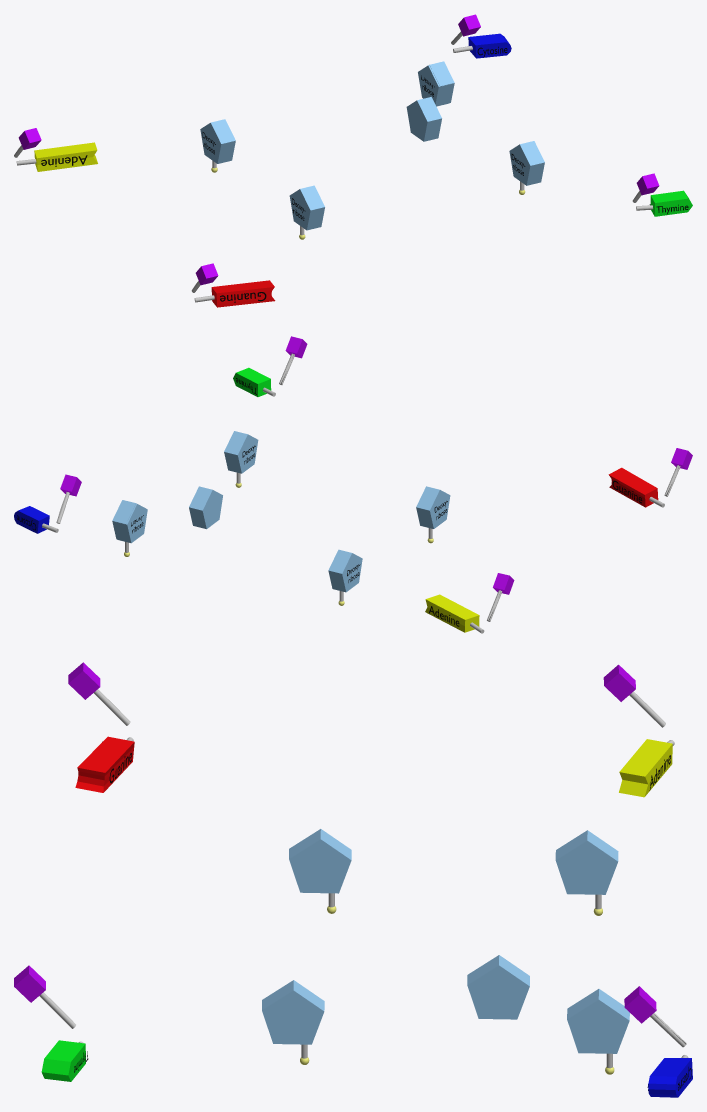
File: thymine.glb
3 renders of one model, top to bottom at view 1: azimuth 30°, elevation 25°; view 2: azimuth 150°, elevation 25°; view 3: azimuth 270°, elevation 25°, orthographic. The views are drawn at different scales.
Parts seen in each view (by area): view 1: Deoxyribose.006 (×4), Connector_Ribose_Base.001, Connector_Ribose_Base.002, Connector_Ribose_Base.004, Connector_Ribose_Base.003, Deoxyribose.004; view 2: Deoxyribose.006 (×4), Connector_Ribose_Base.001, Connector_Ribose_Base.002, Deoxyribose.004, Connector_Ribose_Base.003, Connector_Ribose_Base.004, Phosphate.004, Phosphate.001, Phosphate.002, Phosphate.003; view 3: Deoxyribose.006 (×5), Connector_Ribose_Base.002, Connector_Ribose_Base.001, Connector_Ribose_Base.004, Connector_Ribose_Base.003, Phosphate.003, Phosphate.001, Phosphate.002, Phosphate.004.
Boxes of the visible parts, <box> form: Deoxyribose.006 (×4): <box>200,97,544,230</box>; Connector_Ribose_Base.001: <box>16,142,97,171</box>; Connector_Ribose_Base.002: <box>194,280,275,307</box>; Connector_Ribose_Base.004: <box>453,33,511,58</box>; Connector_Ribose_Base.003: <box>636,190,692,216</box>; Deoxyribose.004: <box>418,65,453,106</box>; Deoxyribose.006 (×4): <box>189,431,450,592</box>; Connector_Ribose_Base.001: <box>425,594,484,633</box>; Connector_Ribose_Base.002: <box>608,467,664,507</box>; Deoxyribose.004: <box>113,503,147,543</box>; Connector_Ribose_Base.003: <box>233,367,275,396</box>; Connector_Ribose_Base.004: <box>14,506,58,533</box>; Phosphate.004: <box>56,474,81,523</box>; Phosphate.001: <box>487,573,514,621</box>; Phosphate.002: <box>664,448,692,496</box>; Phosphate.003: <box>279,336,307,384</box>; Deoxyribose.006 (×5): <box>262,829,629,1053</box>; Connector_Ribose_Base.002: <box>75,736,134,792</box>; Connector_Ribose_Base.001: <box>619,739,674,797</box>; Connector_Ribose_Base.004: <box>648,1055,692,1097</box>; Connector_Ribose_Base.003: <box>41,1040,85,1081</box>; Phosphate.003: <box>14,965,75,1028</box>; Phosphate.001: <box>603,664,665,727</box>; Phosphate.002: <box>68,662,130,725</box>; Phosphate.004: <box>624,986,686,1047</box>.
Bounding box in the file's own units: 10.43 × 1.6 × 8.25.
